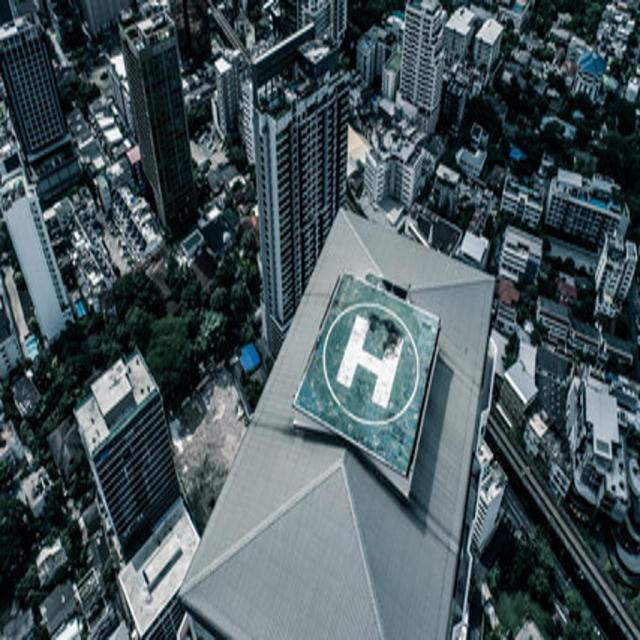helipad: (320, 300, 420, 424)
